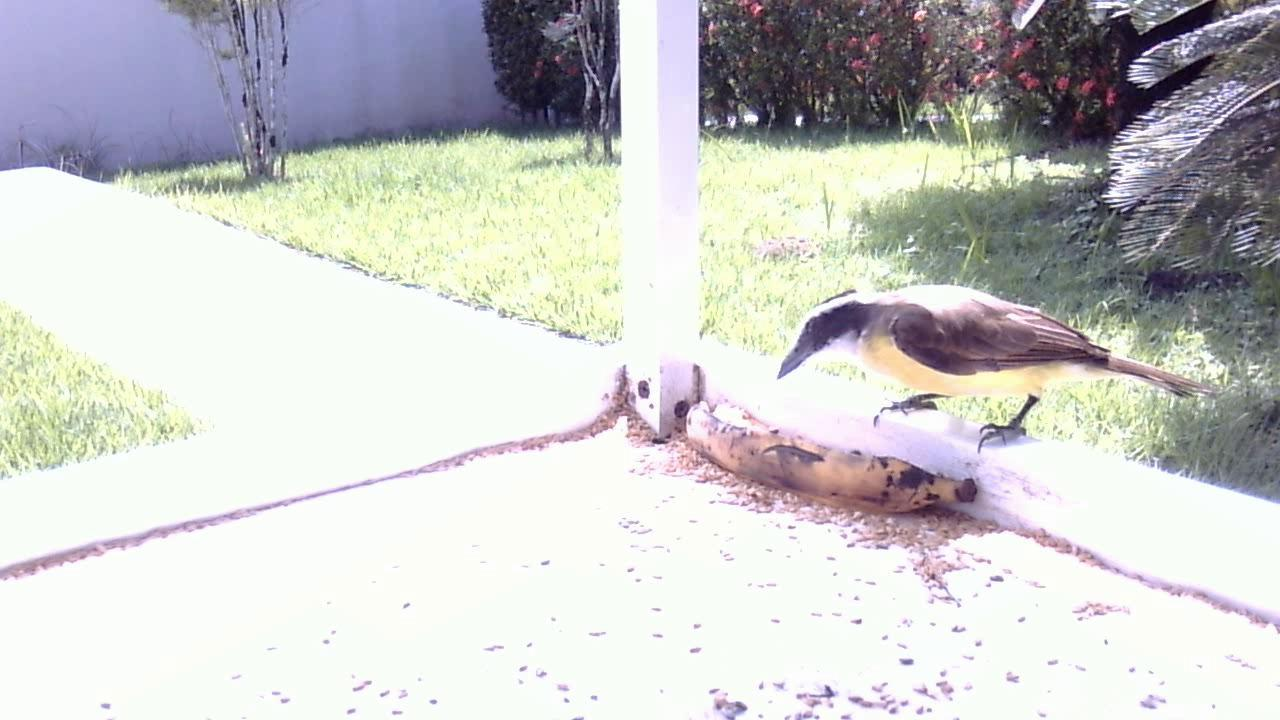bem_te_vi: (768, 272, 1217, 467)
